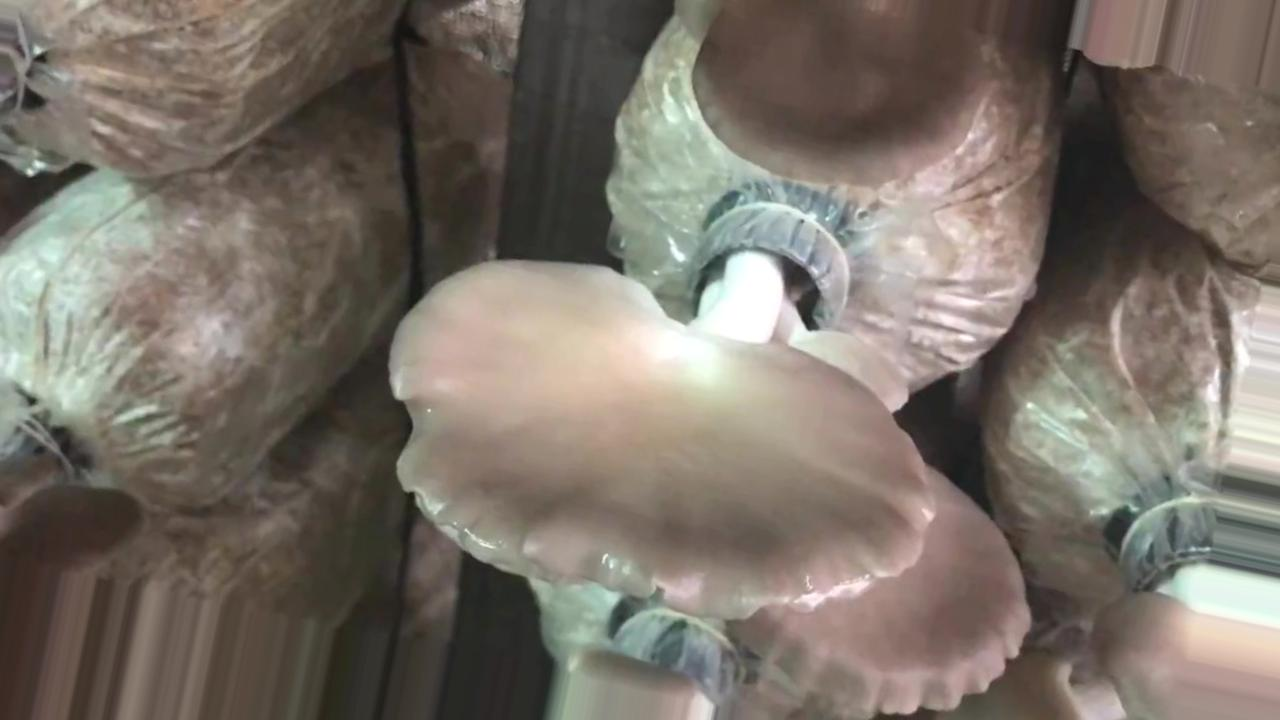nam: (388, 178, 939, 625), (728, 460, 1032, 713), (693, 2, 996, 188), (1099, 496, 1276, 720)
